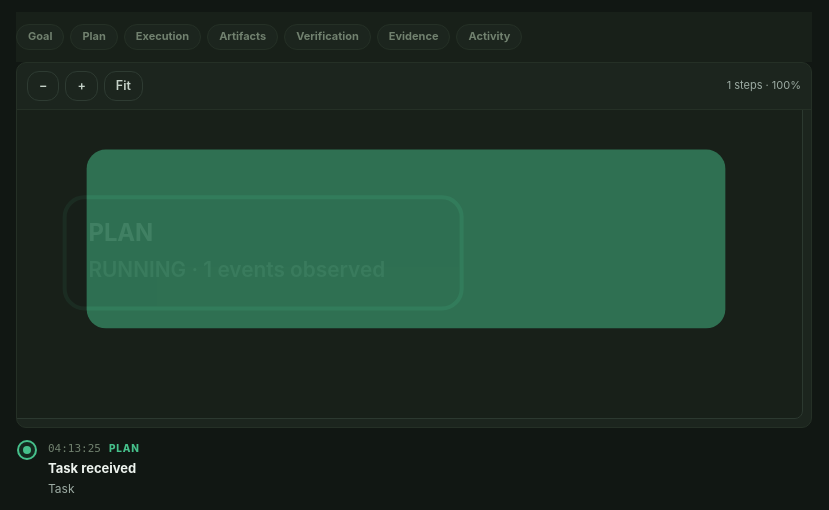
Scenario: v2 run studio › renders Goal→Evidence tabs with honest empty states
Check: the tab "Goal" is shown, box [16,24,64,50]
Check: the tab "Plan" is shown, box [70,24,118,50]
Click the tab "Verification" at (328, 37), box [284,24,371,50]
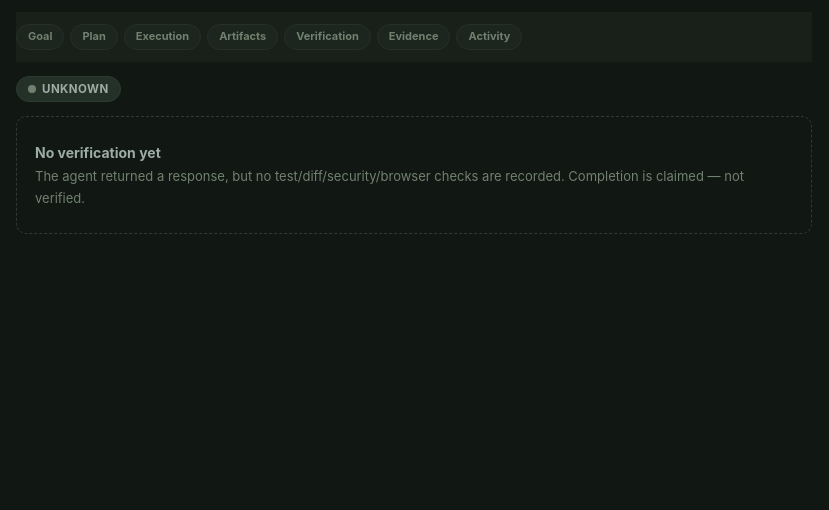
Check: the text "UNKNOWN" is shown, box [16,76,121,102]
